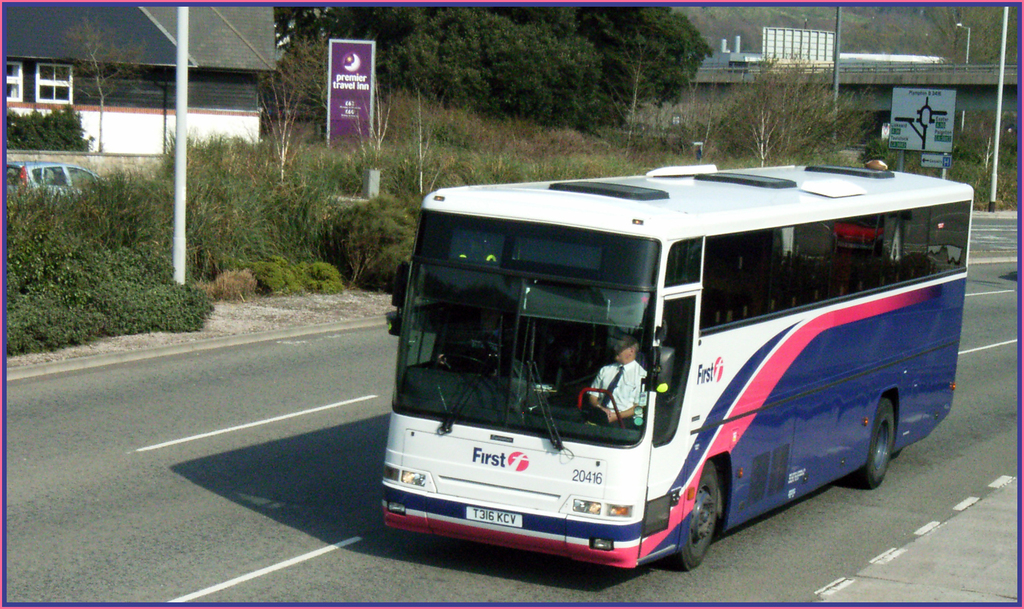Bus: (383, 164, 975, 570)
